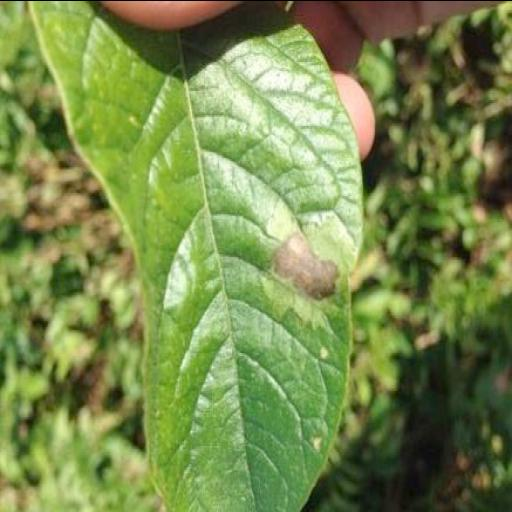Late Blight: (32, 0, 364, 512)
